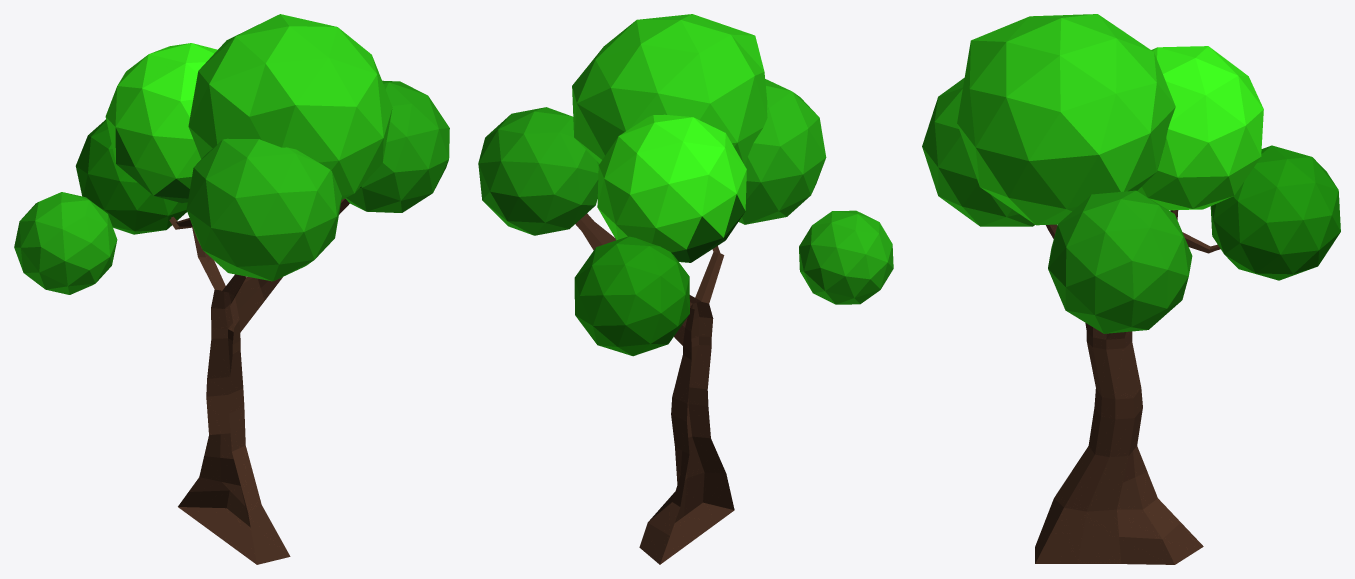
Rendered from katreena.glb.
3 views of the same model, side by side, from view 1: azimuth 30°, elevation 25°; view 2: azimuth 150°, elevation 25°; view 3: azimuth 270°, elevation 25° (orthographic). The views are drawn at different scales.
Visible parts, largest first — view 1: Icosphere.003, Icosphere, Cube, Icosphere.002, Icosphere.005, Icosphere.004, Icosphere.001; view 2: Icosphere.003, Icosphere.002, Cube, Icosphere.004, Icosphere.001, Icosphere, Icosphere.005; view 3: Icosphere.003, Cube, Icosphere.004, Icosphere.002, Icosphere.001, Icosphere.
Part boxes in pixels (x1,y1,x2,y2): Icosphere.003: [188, 14, 392, 199]; Icosphere: [186, 138, 341, 281]; Cube: [169, 198, 349, 564]; Icosphere.002: [105, 43, 217, 202]; Icosphere.005: [14, 192, 117, 294]; Icosphere.004: [345, 80, 449, 212]; Icosphere.001: [75, 119, 187, 234]; Icosphere.003: [572, 14, 767, 165]; Icosphere.002: [597, 114, 746, 262]; Cube: [575, 213, 734, 564]; Icosphere.004: [478, 107, 599, 235]; Icosphere.001: [574, 236, 689, 356]; Icosphere: [738, 79, 826, 224]; Icosphere.005: [799, 210, 893, 304]; Icosphere.003: [957, 14, 1175, 225]; Cube: [1035, 210, 1220, 564]; Icosphere.004: [1048, 190, 1192, 333]; Icosphere.002: [1137, 46, 1263, 210]; Icosphere.001: [1210, 145, 1340, 280]; Icosphere: [922, 78, 1034, 226].
Size of the model in its own units: 12.07 by 14.11 by 9.71.
Materials: 1 (1 with a texture image).
